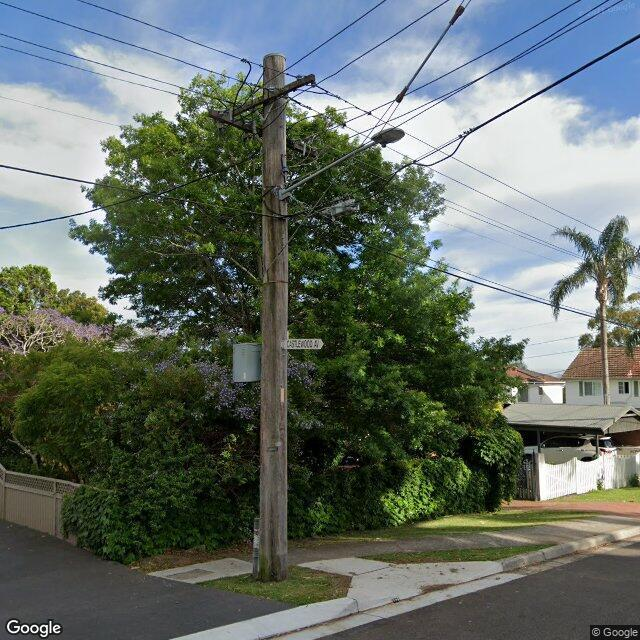crossarm: (216, 74, 316, 128), (208, 109, 318, 158)
streetlight: (273, 126, 406, 200)
timber-pole: (253, 53, 290, 581)
